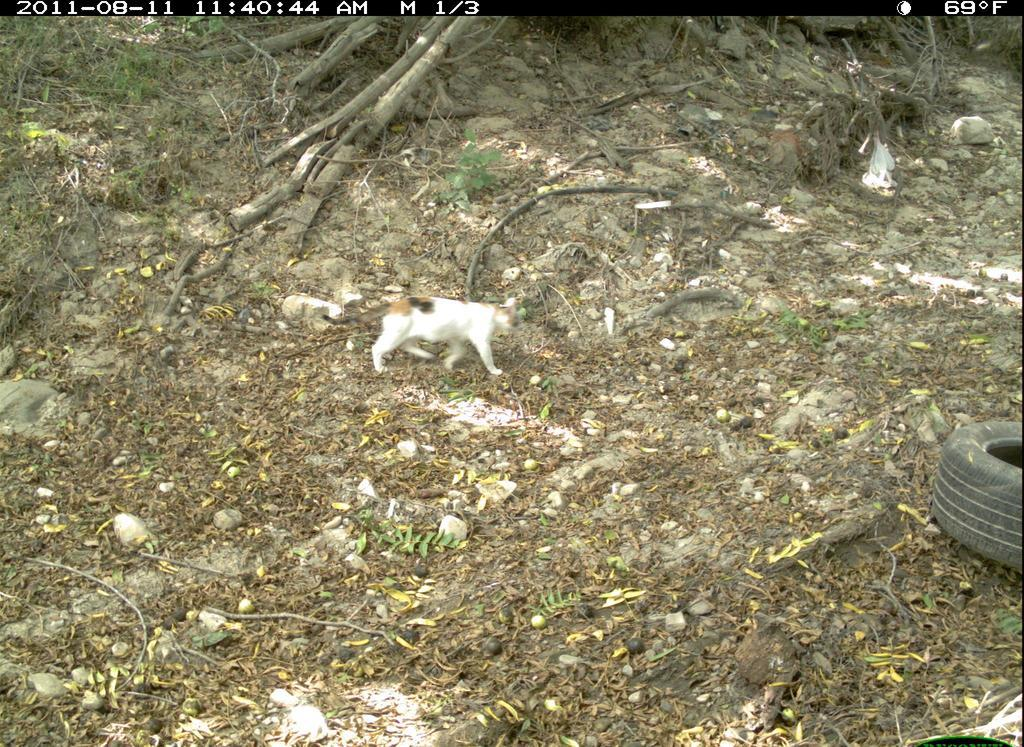cat: (320, 289, 525, 384)
